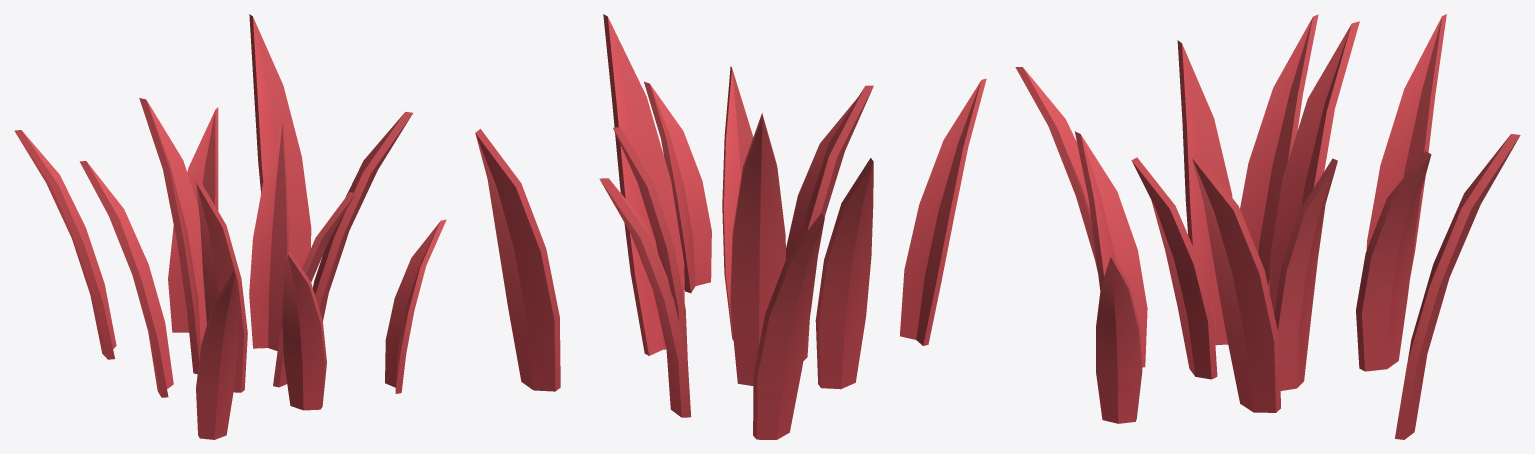
The model's file is Grass_2_D_Color7.fbx.
The picture shows the model from 3 angles, left to right: view 1: azimuth 30°, elevation 25°; view 2: azimuth 150°, elevation 25°; view 3: azimuth 270°, elevation 25°; orthographic projection. The views are drawn at different scales.
Parts seen in each view (by area): view 1: Grass_2_D_Color7; view 2: Grass_2_D_Color7; view 3: Grass_2_D_Color7.
Boxes of the visible parts, <box> form: Grass_2_D_Color7: <box>14,14,446,439</box>; Grass_2_D_Color7: <box>475,14,986,439</box>; Grass_2_D_Color7: <box>1015,14,1520,439</box>.
Size of the model in its own units: 1.1 by 0.9352 by 1.37.
